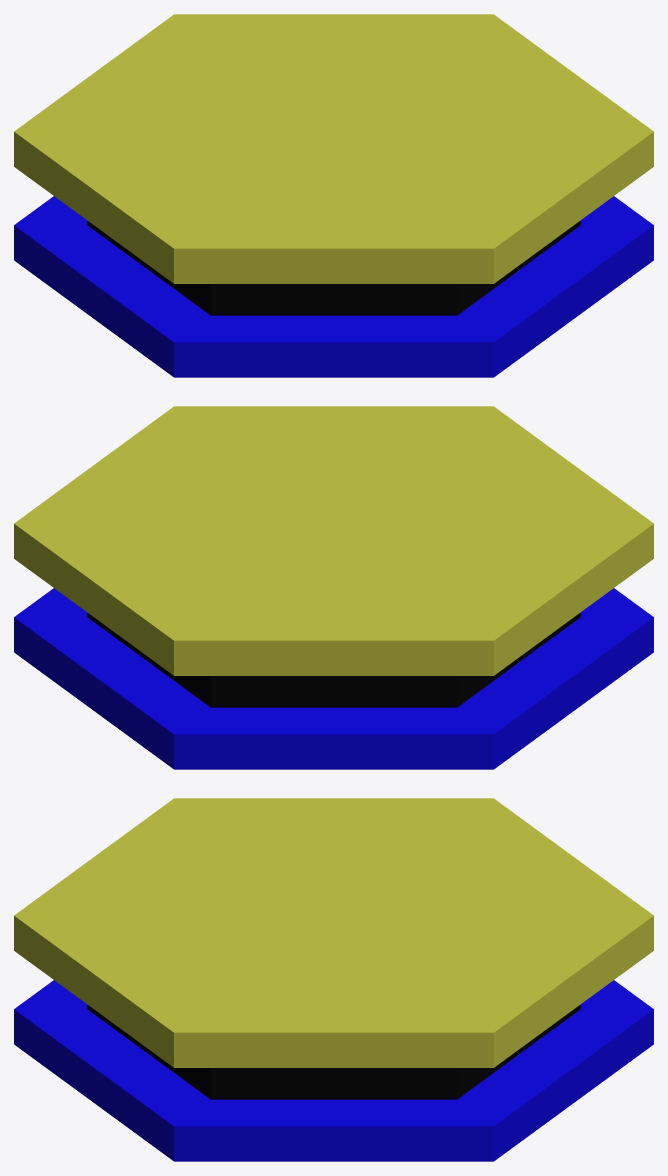
The model's file is game-piece.glb.
3 renders of one model, top to bottom at view 1: azimuth 30°, elevation 25°; view 2: azimuth 150°, elevation 25°; view 3: azimuth 270°, elevation 25°, orthographic.
Visible parts, largest first — view 1: Circle.001, Circle, Circle.002; view 2: Circle.001, Circle, Circle.002; view 3: Circle.001, Circle, Circle.002.
Boxes of the visible parts, box(x1,y1,x2,y2) form: Circle.001: box(14, 14, 653, 283); Circle: box(14, 196, 653, 377); Circle.002: box(87, 220, 580, 315); Circle.001: box(14, 406, 653, 675); Circle: box(14, 588, 653, 769); Circle.002: box(87, 612, 580, 707); Circle.001: box(14, 798, 653, 1067); Circle: box(14, 980, 653, 1161); Circle.002: box(87, 1004, 580, 1099).
Size of the model in its own units: 1.73 by 0.4441 by 2.
